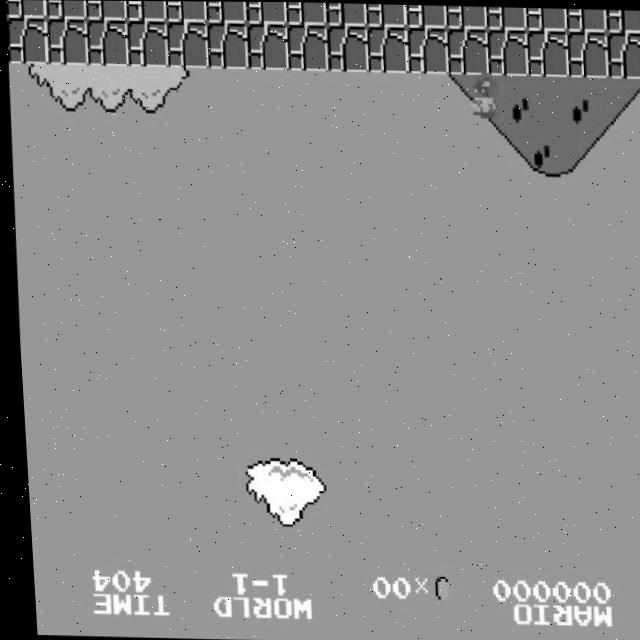11- little_mario: (461, 71, 507, 121)
17- undestructible_block: (5, 18, 50, 65), (405, 26, 449, 74), (325, 24, 369, 72), (245, 22, 289, 70), (165, 20, 209, 68), (85, 18, 129, 66), (565, 30, 609, 77), (525, 29, 569, 76), (485, 28, 529, 75), (445, 27, 489, 74), (365, 25, 409, 72), (285, 23, 329, 70), (205, 22, 249, 69), (125, 20, 169, 67), (45, 18, 89, 65), (605, 32, 640, 79), (565, 7, 607, 32), (485, 5, 527, 30), (525, 7, 567, 31), (445, 5, 487, 29), (405, 4, 447, 28), (365, 3, 407, 27), (325, 2, 367, 26), (285, 2, 327, 25), (245, 1, 287, 24), (205, 1, 247, 23), (165, 1, 207, 22), (125, 1, 167, 21), (85, 0, 127, 20), (45, 0, 87, 20), (605, 10, 640, 33), (5, 0, 47, 18)
